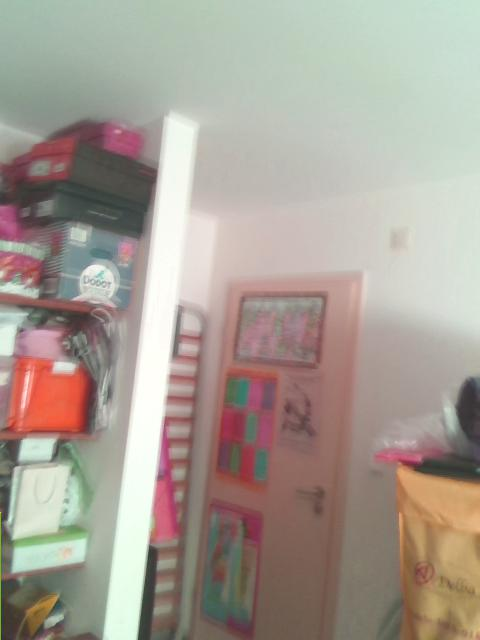closed_door: (184, 273, 367, 639)
